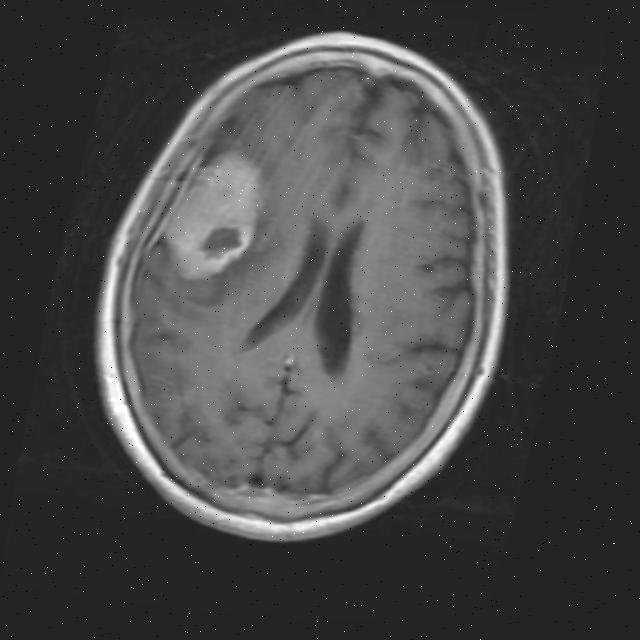Meningioma: (136, 132, 275, 293)
